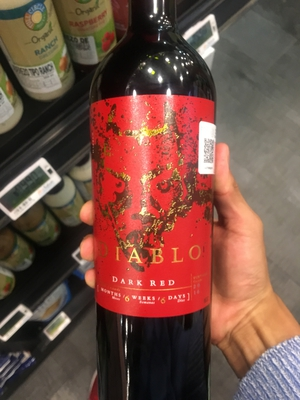diablo dark red: (84, 5, 239, 392)
